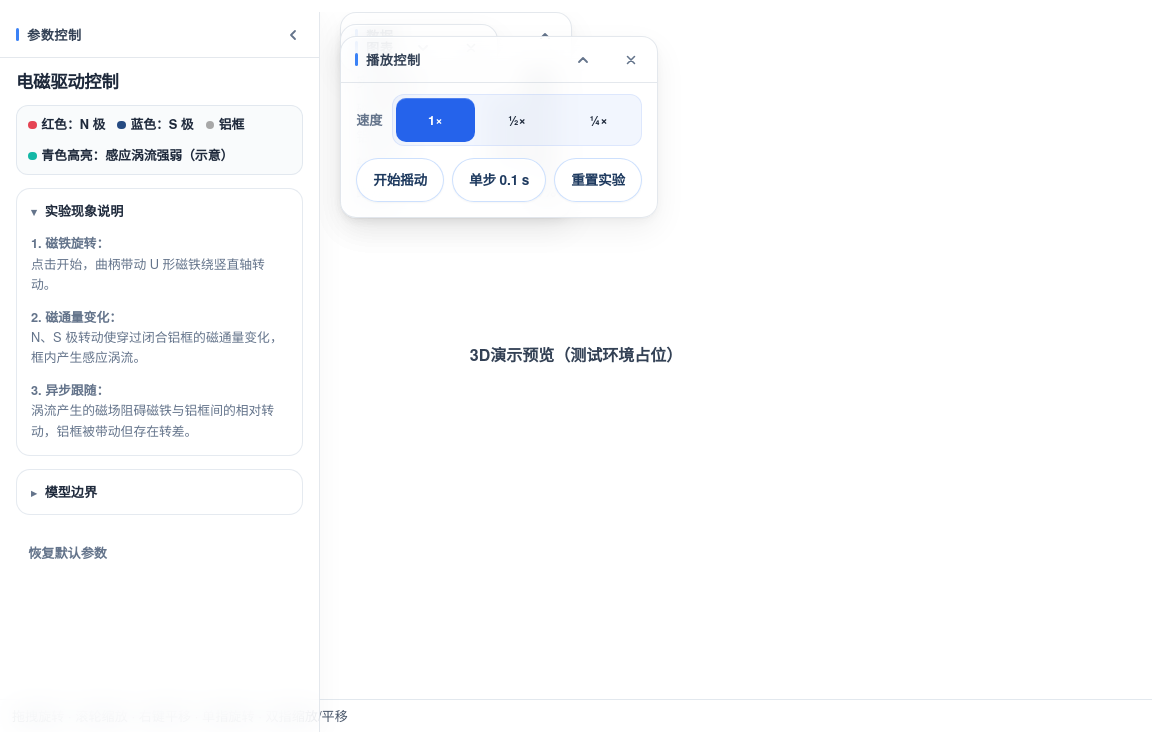
Test: electromagnetic-drive structure › allows note section to collapse
Step 1. Click the button "▾ 实验现象说明" → (84, 211), box [17,189,302,233]
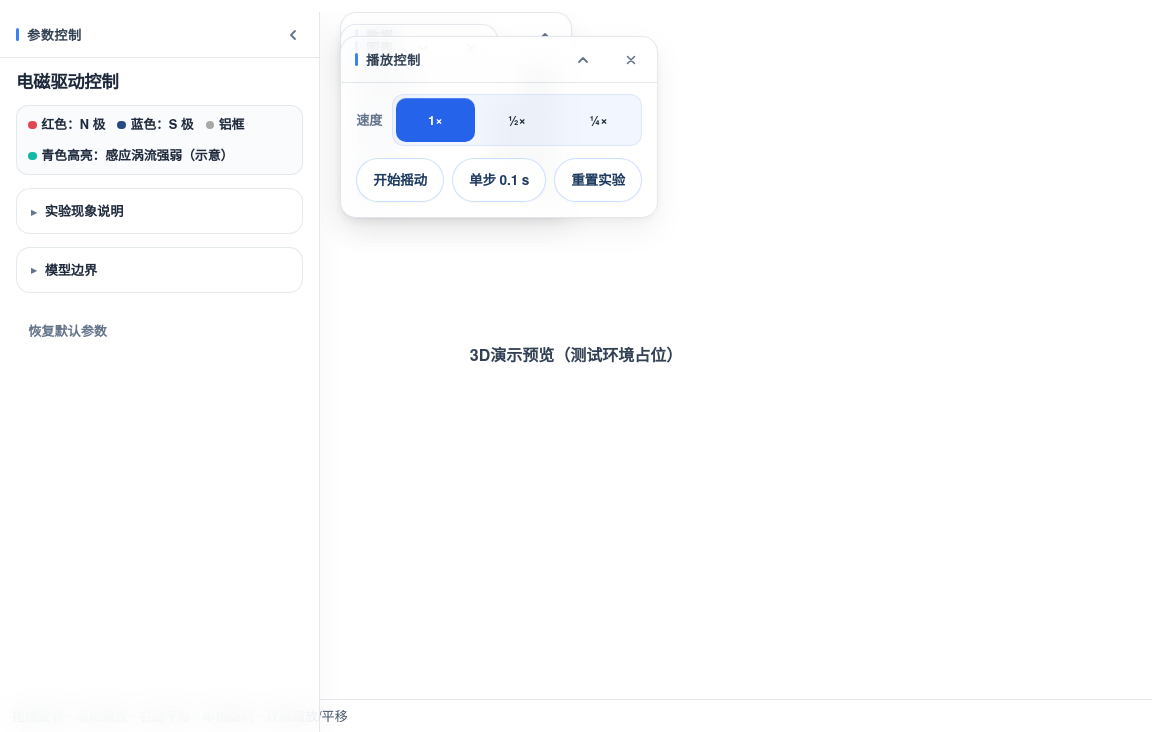
expect the text "异步跟随" is gone: met
